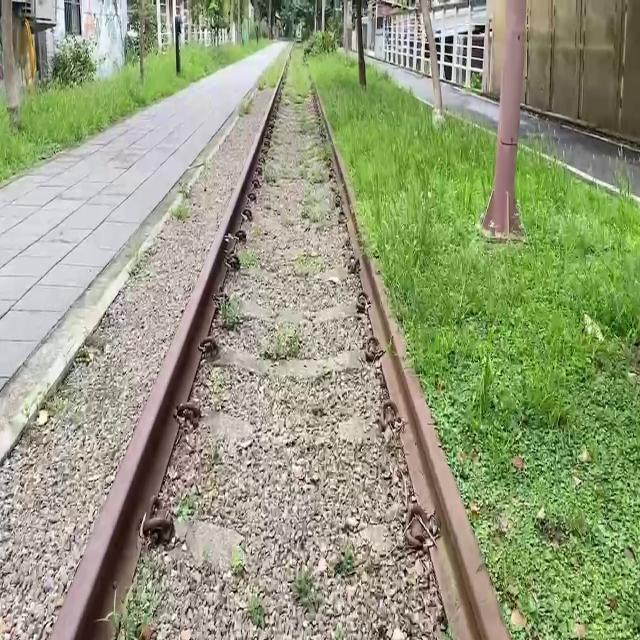rail: (28, 49, 518, 640)
